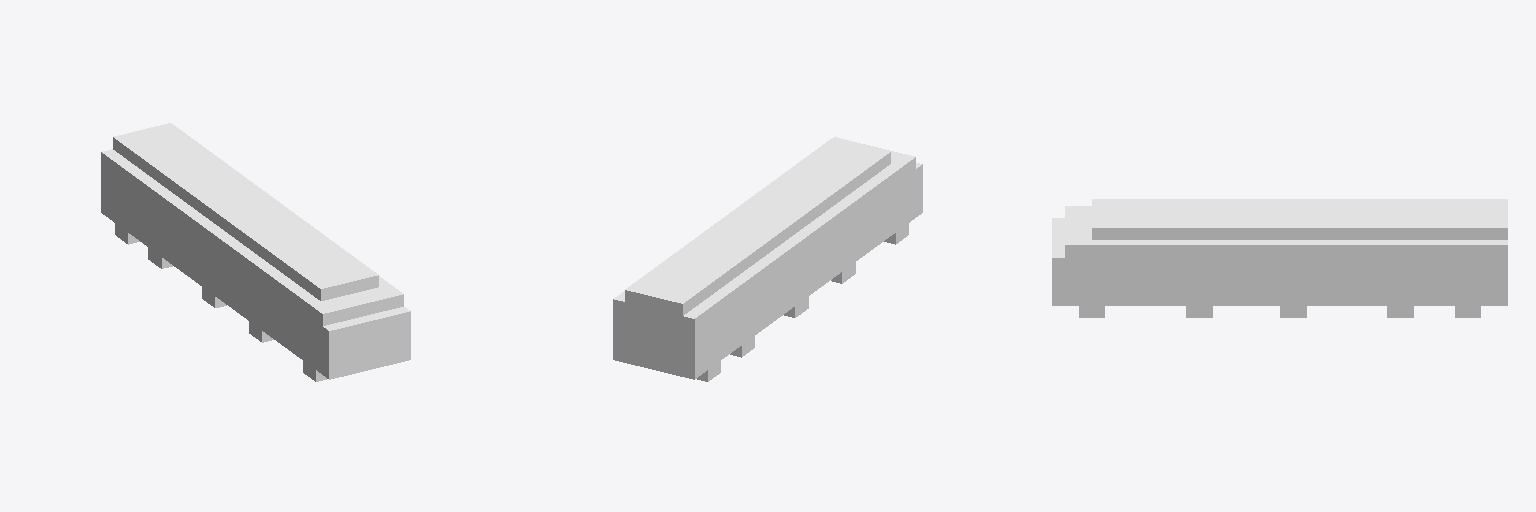
The model's file is train.obj.
3 views of the same model, side by side, from view 1: azimuth 30°, elevation 25°; view 2: azimuth 150°, elevation 25°; view 3: azimuth 270°, elevation 25° (orthographic).
Bounding box in the file's own units: 7 × 7 × 34.